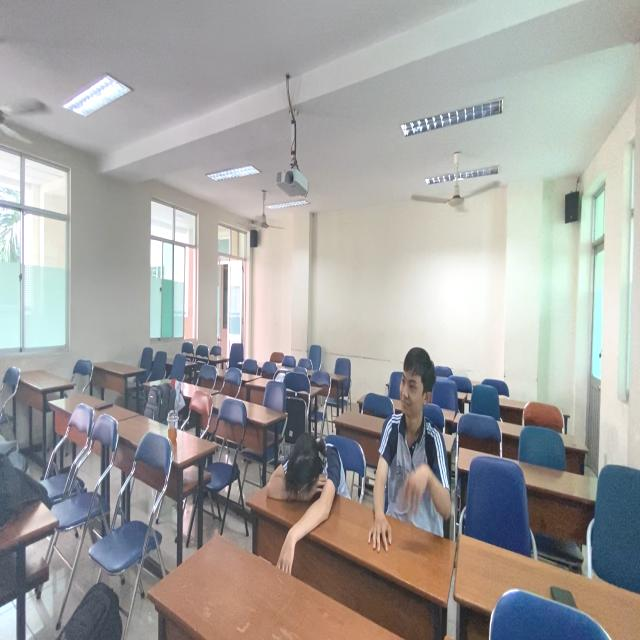sleep: (263, 425, 354, 569)
